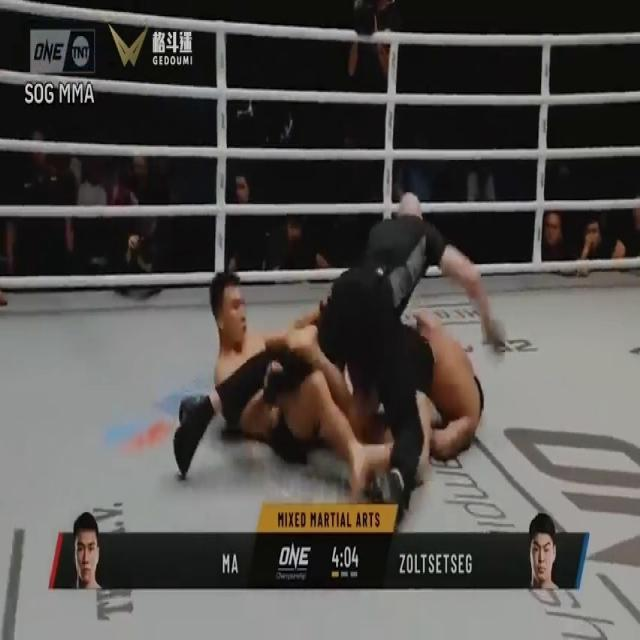fight: (172, 188, 512, 524)
